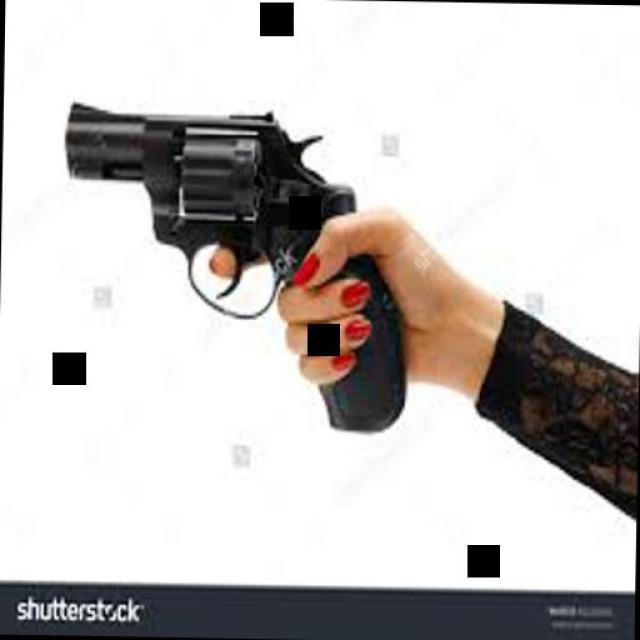gun: (54, 96, 418, 432)
